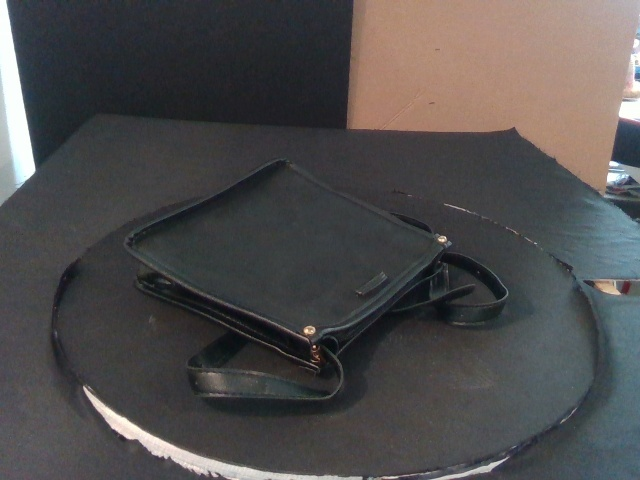bag: (122, 158, 451, 374)
